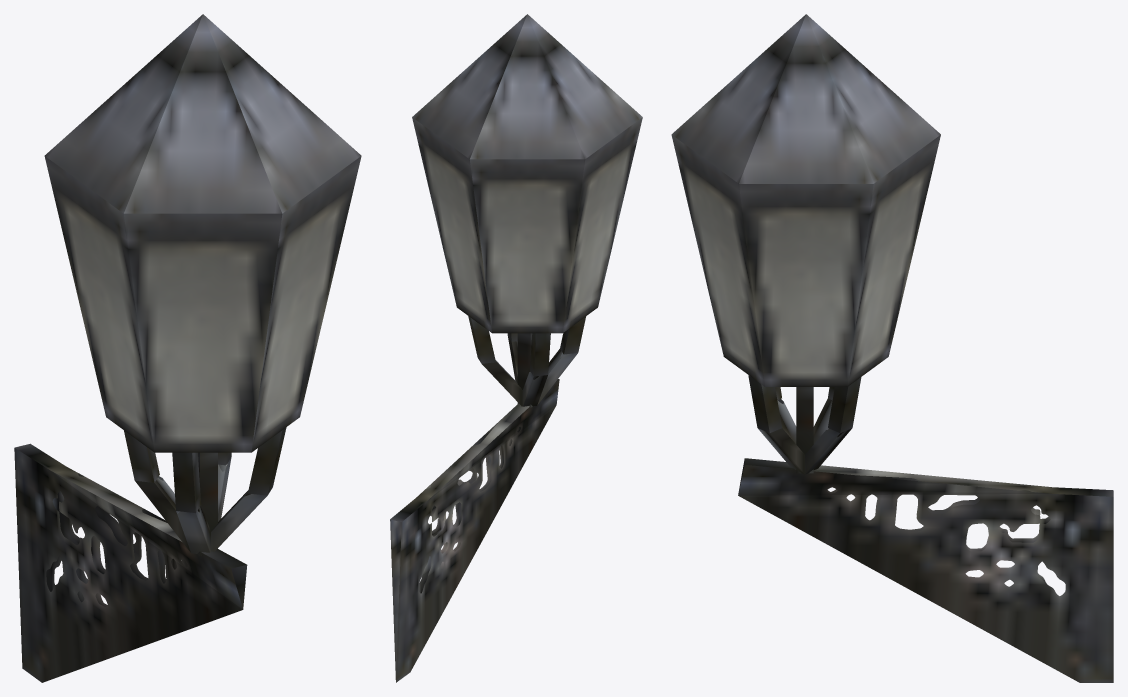
File: Lamp01.obj
The picture shows the model from 3 angles, left to right: view 1: azimuth 30°, elevation 25°; view 2: azimuth 150°, elevation 25°; view 3: azimuth 270°, elevation 25°; orthographic projection. The views are drawn at different scales.
Visible parts, largest first — view 1: Lamp01; view 2: Lamp01; view 3: Lamp01.
Boxes of the visible parts, <box> form: Lamp01: <box>14,14,361,682</box>; Lamp01: <box>390,14,642,682</box>; Lamp01: <box>671,14,1113,682</box>.
Size of the model in its own units: 0.2948 by 0.9317 by 0.558.
